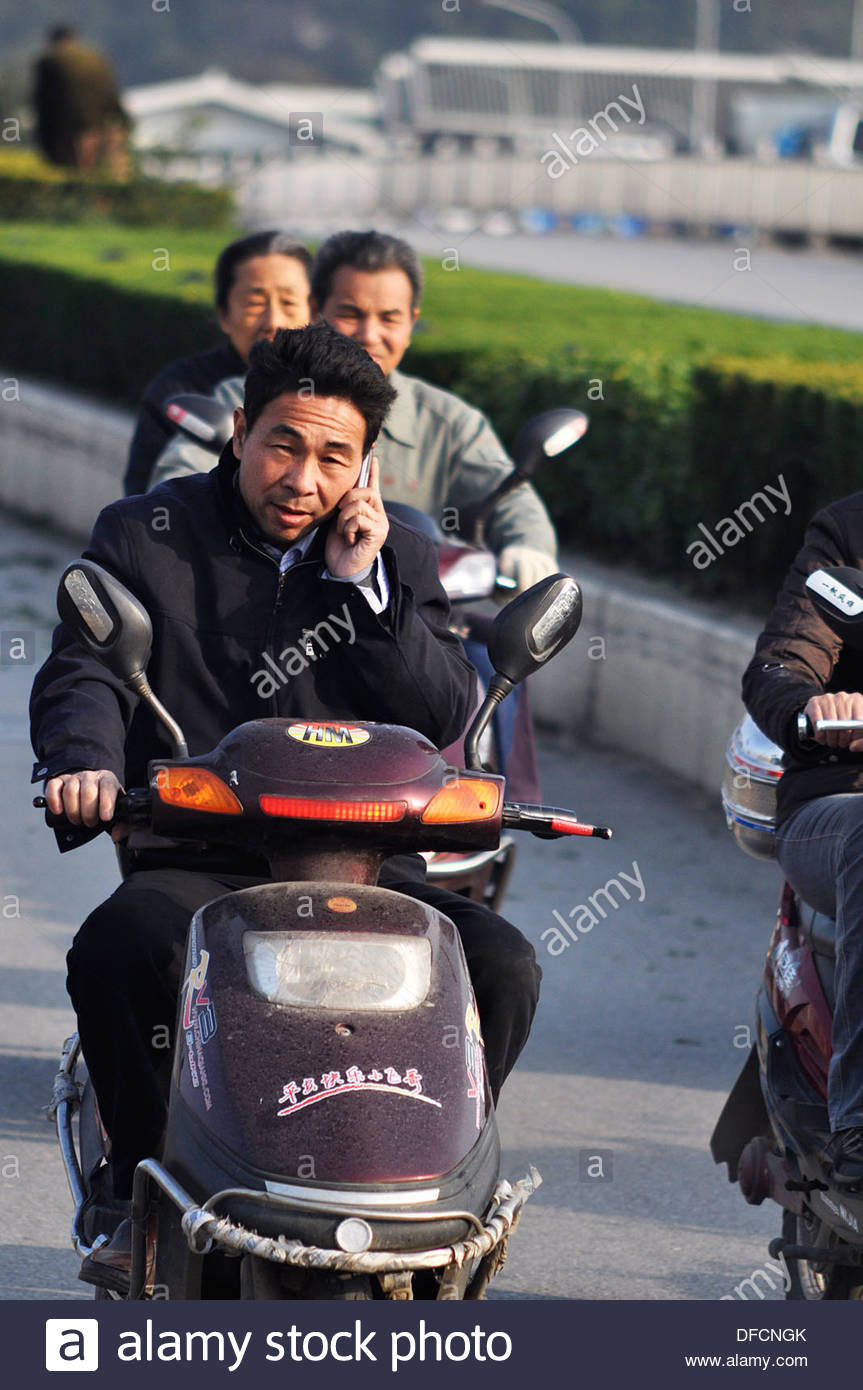dieu khien xe may: (55, 323, 510, 1293)
su dung dien thoai: (242, 326, 395, 627)
